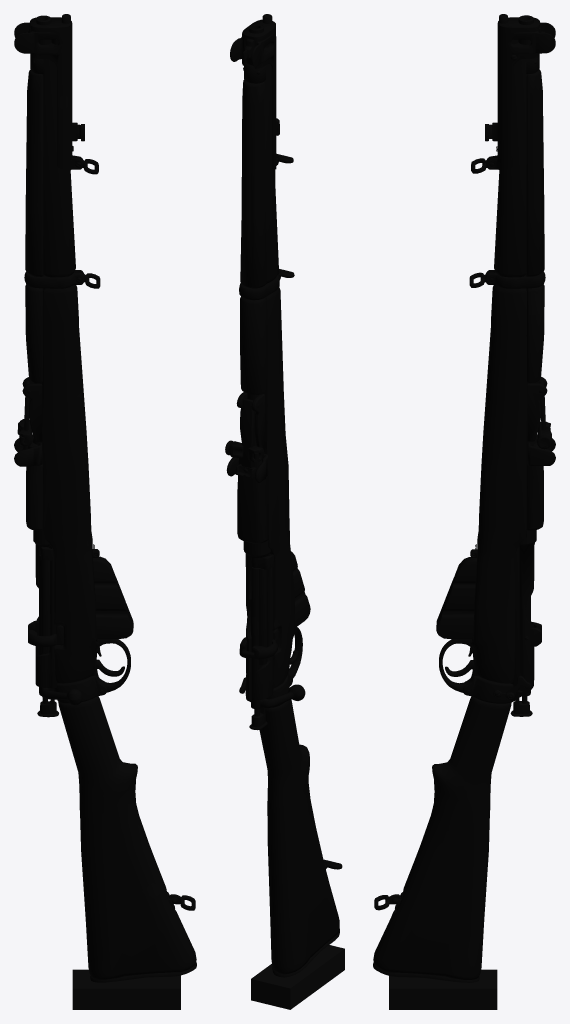
The model's file is LeeEnfieldNo4__RecoilPad_Rubber.fbx.
3 renders of one model, left to right at view 1: azimuth 90°, elevation 25°; view 2: azimuth 150°, elevation 25°; view 3: azimuth 270°, elevation 25°, orthographic.
Visible parts, largest first — view 1: asset_LeeEnfieldNo4.001; view 2: asset_LeeEnfieldNo4.001; view 3: asset_LeeEnfieldNo4.001.
Part boxes in pixels (x1,y1,x2,y2): asset_LeeEnfieldNo4.001: (14,14,196,1009); asset_LeeEnfieldNo4.001: (225,14,344,1009); asset_LeeEnfieldNo4.001: (373,14,555,1009).
Bounding box in the file's own units: 0.0382 × 0.693 × 0.1167.
